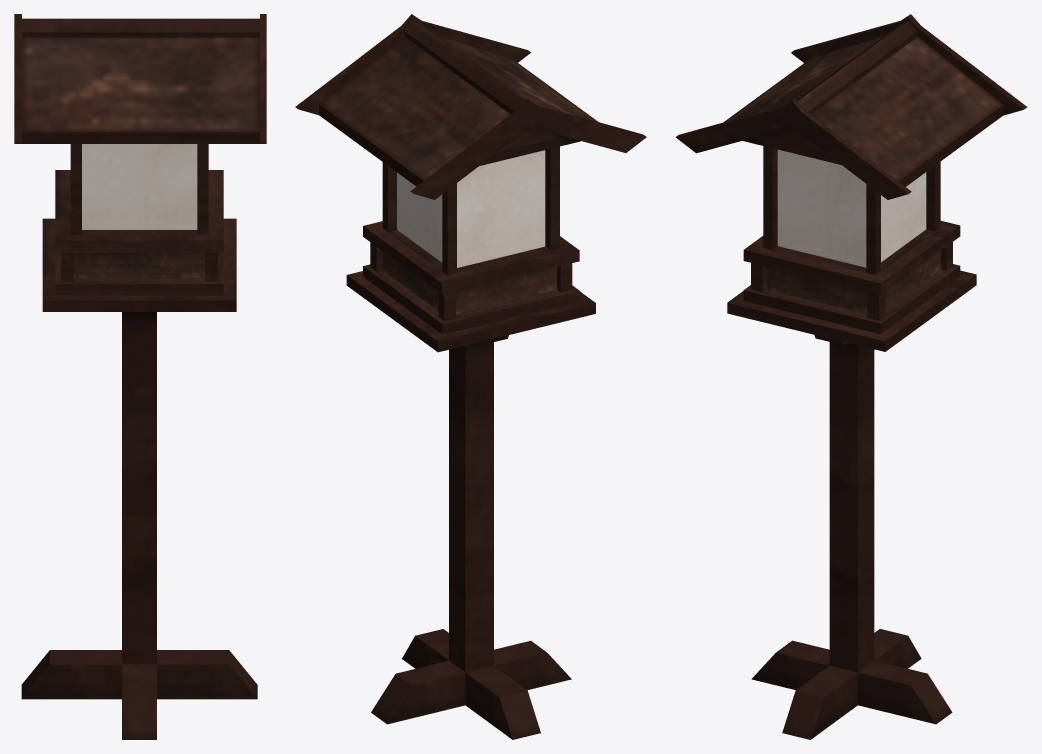
File: desk_lamp_4.obj
3 renders of one model, left to right at view 1: azimuth 30°, elevation 25°; view 2: azimuth 150°, elevation 25°; view 3: azimuth 270°, elevation 25°, orthographic. The views are drawn at different scales.
Parts seen in each view (by area): view 1: Object_0; view 2: Object_0; view 3: Object_0.
Boxes of the visible parts, box(x1,y1,x2,y2) form: Object_0: box(14, 14, 266, 739); Object_0: box(295, 14, 646, 739); Object_0: box(675, 14, 1027, 739).
Size of the model in its own units: 6.47 by 13.39 by 6.69.
Materials: 1 (1 with a texture image).
